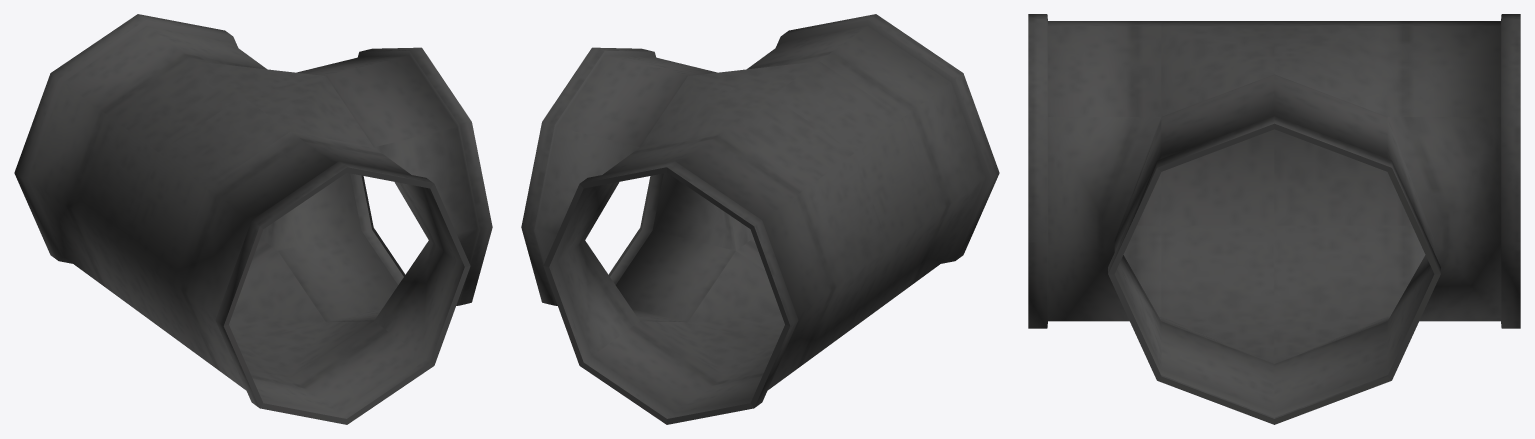
File: PipeT.fbx
3 views of the same model, side by side, from view 1: azimuth 30°, elevation 25°; view 2: azimuth 150°, elevation 25°; view 3: azimuth 270°, elevation 25° (orthographic). The views are drawn at different scales.
Visible parts, largest first — view 1: PipeT; view 2: PipeT; view 3: PipeT.
Part boxes in pixels (<box>): PipeT: <box>14,14,492,424</box>; PipeT: <box>521,14,999,424</box>; PipeT: <box>1028,14,1520,424</box>.
Bounding box in the file's own units: 49.34 × 40.11 × 59.04.
